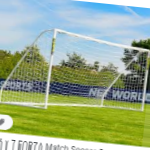goals: (1, 27, 150, 111)
